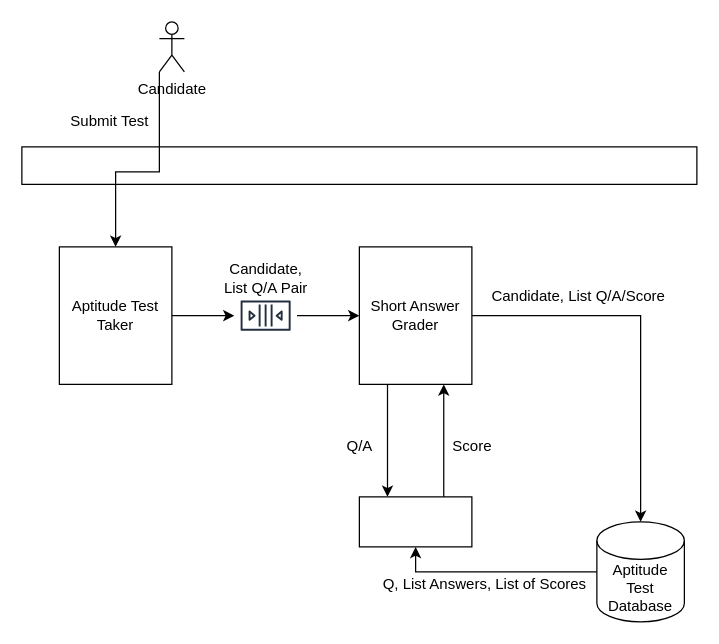
The diagram is 719 pixels wide and 644 high, and some of its shapes have lost their labels. Each missing label, with the centre of its shape:
Public API Gateway: the point at 359,165
Scorer (Backed by LLM): the point at 415,521
